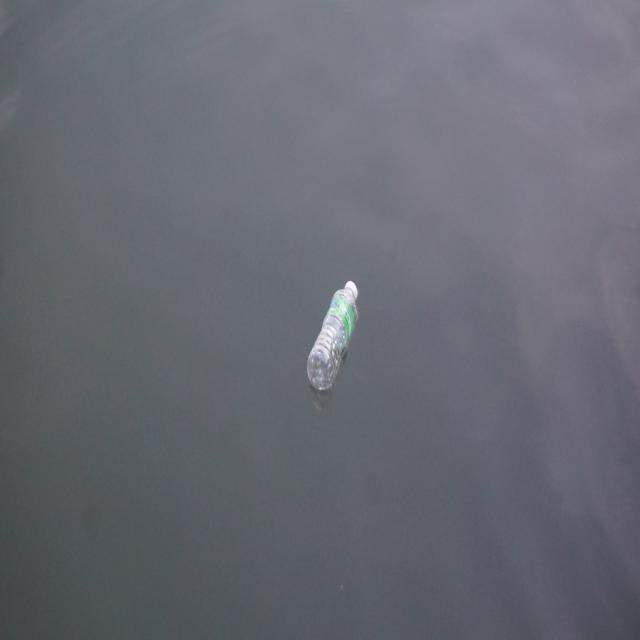Botol Plastik: (305, 274, 362, 402)
